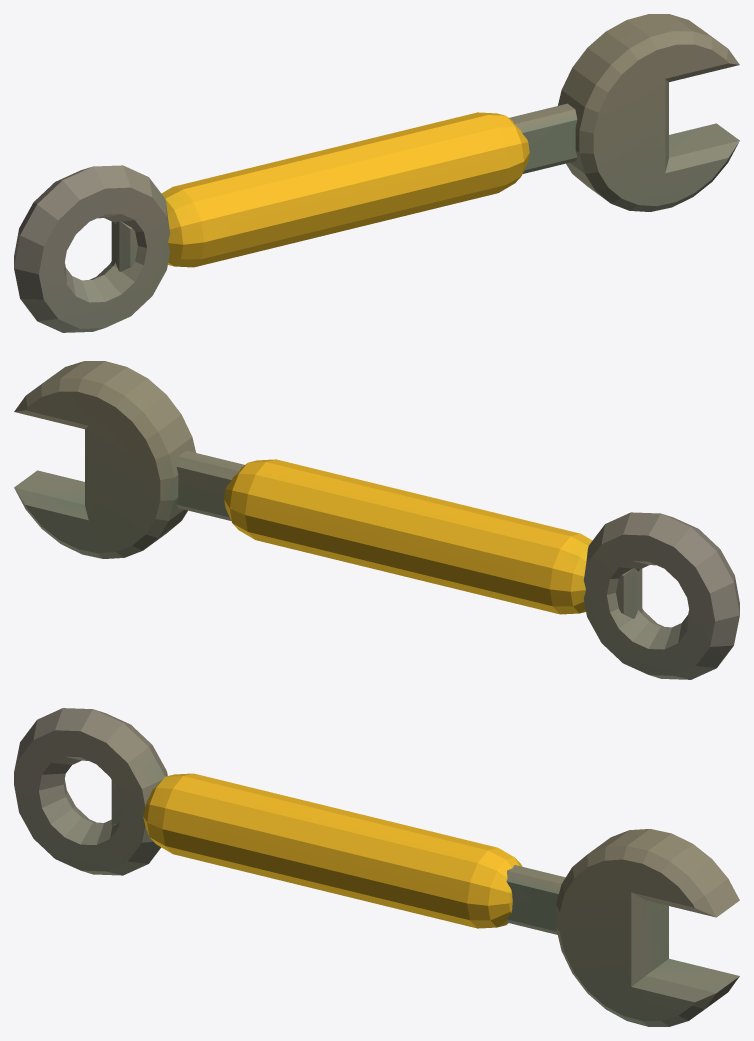
The model's file is Prop_Wrench.glb.
3 views of the same model, one above another, from view 1: azimuth 30°, elevation 25°; view 2: azimuth 150°, elevation 25°; view 3: azimuth 330°, elevation 25° (orthographic).
Parts seen in each view (by area): view 1: Prop_Wrench; view 2: Prop_Wrench; view 3: Prop_Wrench.
Boxes of the visible parts, x1,y1,x2,y2 form: Prop_Wrench: (14, 14, 739, 332); Prop_Wrench: (14, 361, 739, 679); Prop_Wrench: (14, 708, 739, 1026).
Bounding box in the file's own units: 0.6328 × 0.1492 × 0.064.
